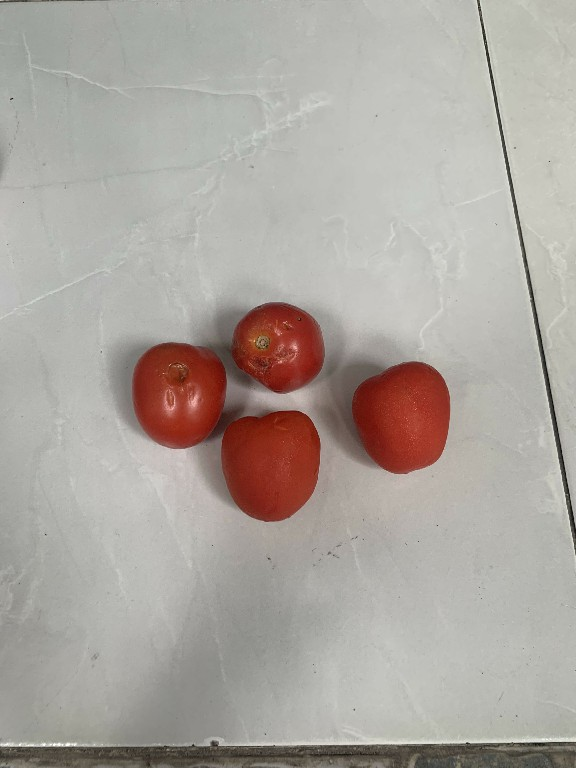NG: (130, 332, 230, 448), (225, 292, 331, 396)
OK: (212, 407, 335, 523), (345, 353, 452, 480)
